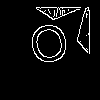O: (26, 21, 74, 75)
